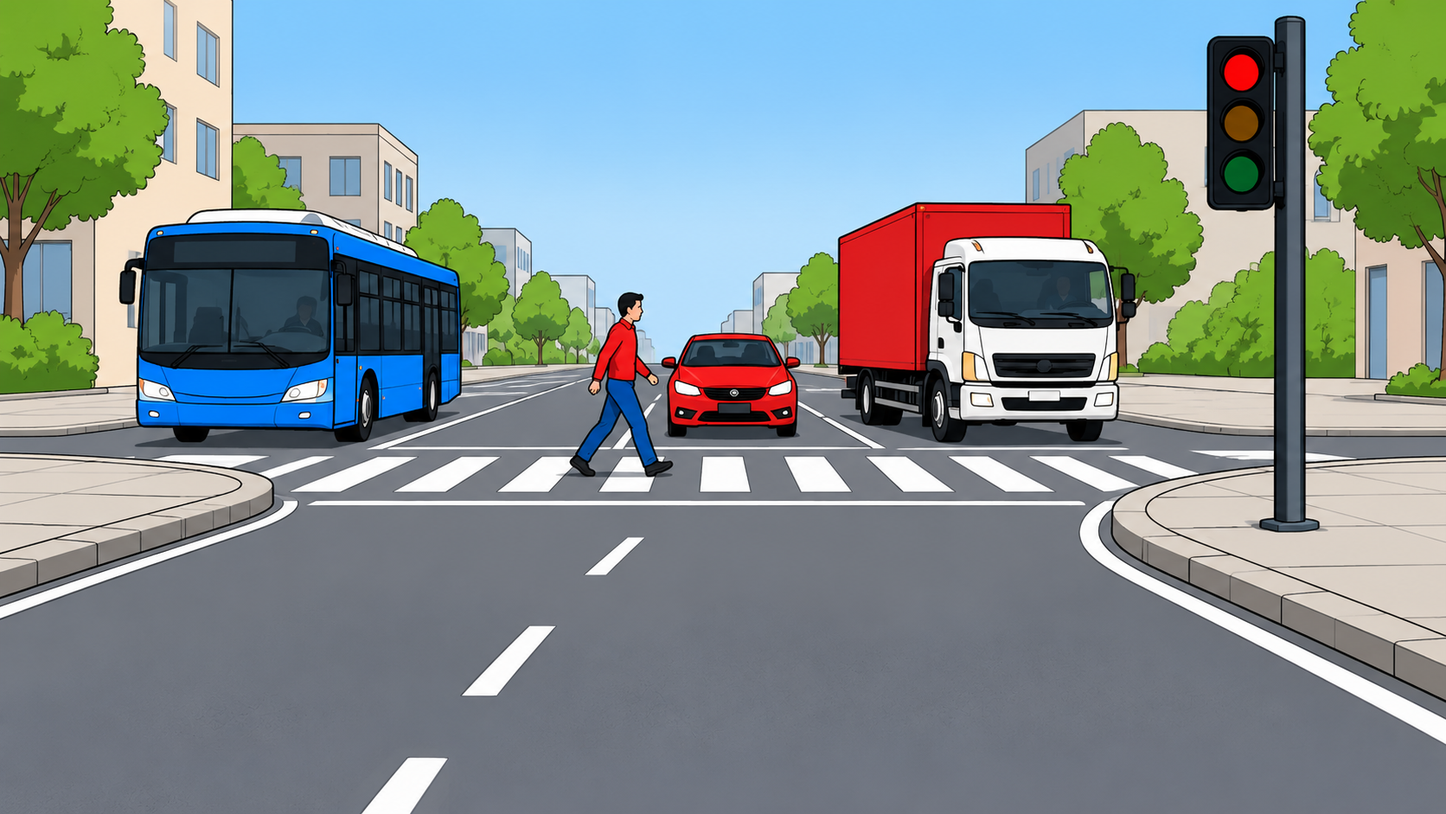bus: (118, 206, 470, 448)
car: (659, 328, 805, 445)
person: (586, 292, 680, 484)
traffic_light: (1206, 33, 1289, 213)
truck: (833, 200, 1140, 448)
zebra_crossing: (0, 439, 1445, 516)
